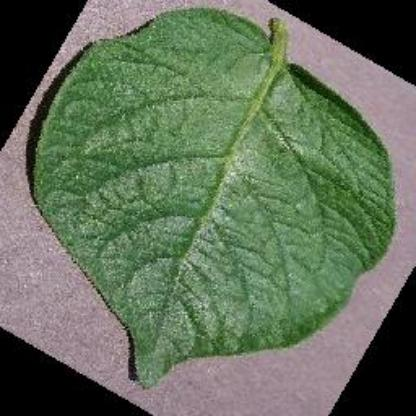Healthy-plant: (29, 6, 397, 388)
